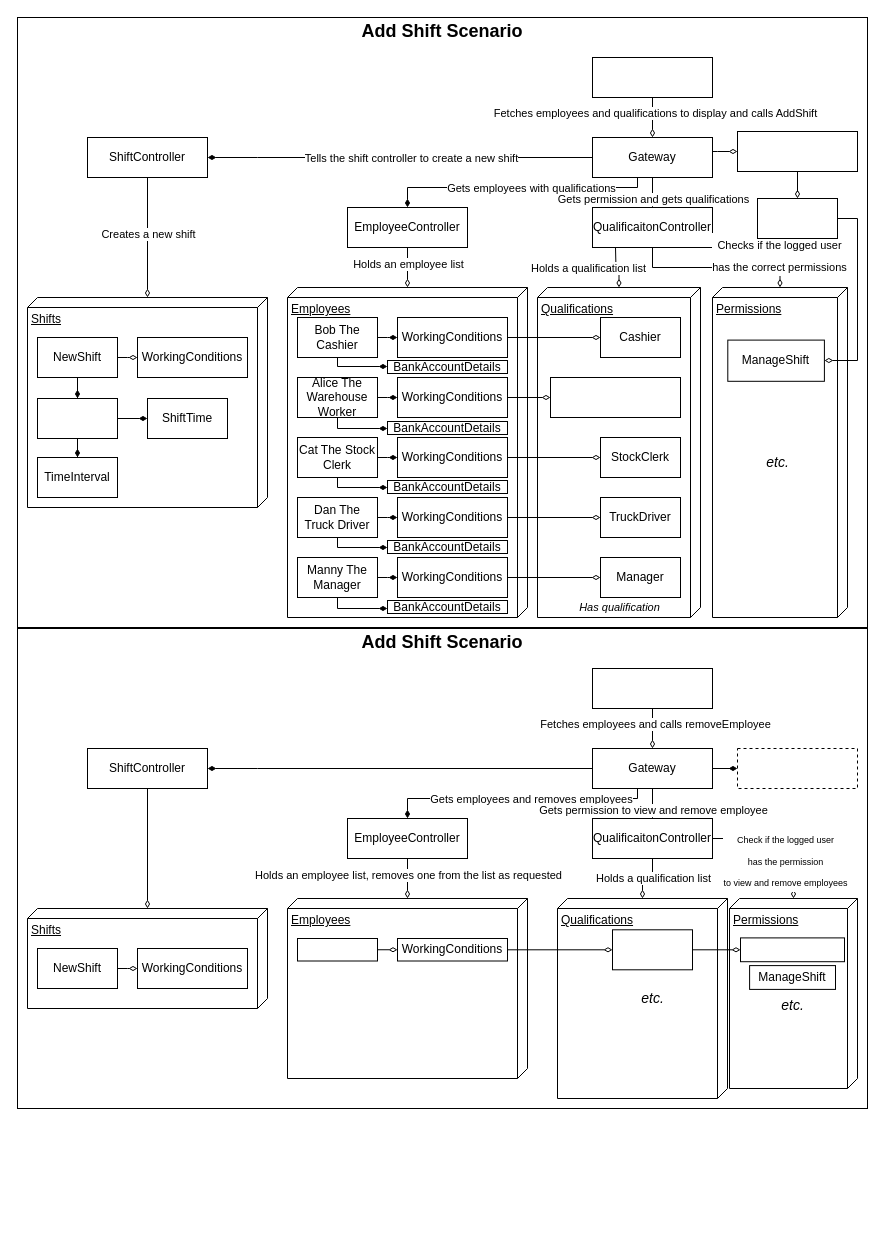
Image size: 885x1236. Some labels were removed from this diagram. Here are the shapes that lost their labels. From the top down, the centre of each, then its label:
point (652, 77): NICLI
point (797, 151): Logged User
point (797, 218): HR Qualification
point (615, 397): WarehouseWorker
point (77, 418): ShiftId
point (652, 688): CLI
point (797, 768): Logged User (Admin)
point (337, 949): Admin
point (652, 949): HR
point (792, 949): ManageEmployees
